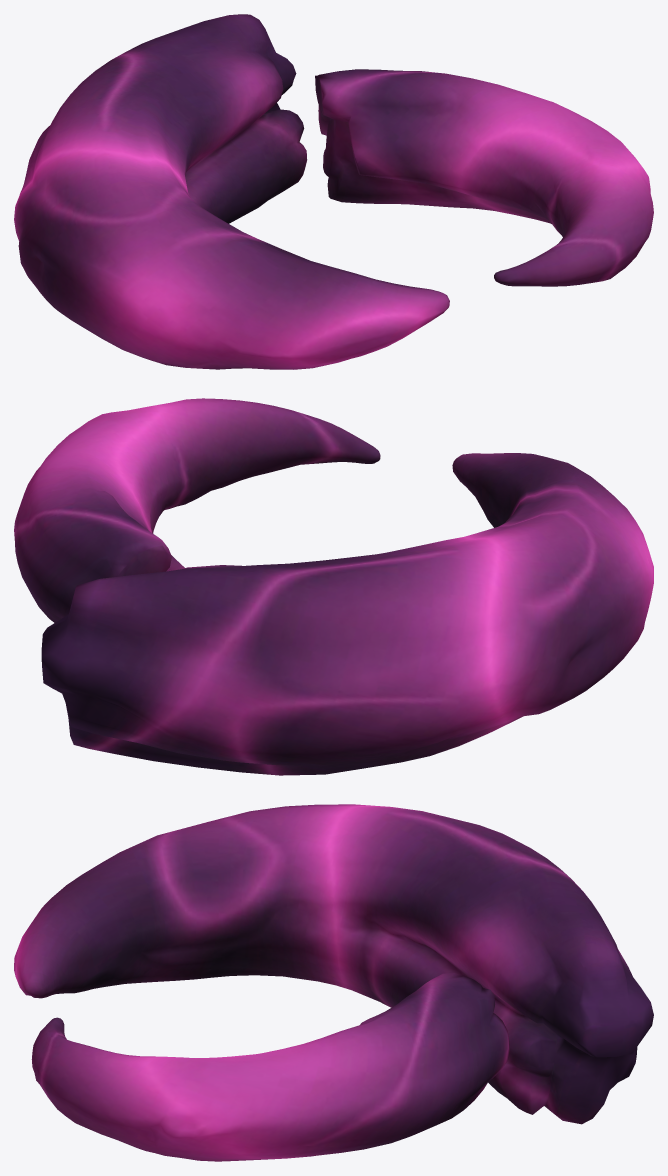
File: caos_drs_clawplantdebris_01a_chaos_v36.glb
3 renders of one model, top to bottom at view 1: azimuth 30°, elevation 25°; view 2: azimuth 150°, elevation 25°; view 3: azimuth 270°, elevation 25°, orthographic. The views are drawn at different scales.
Parts seen in each view (by area): view 1: caos_drs_clawplantdebris_01a; view 2: caos_drs_clawplantdebris_01a; view 3: caos_drs_clawplantdebris_01a.
Part boxes in pixels (<box>): caos_drs_clawplantdebris_01a: <box>14,14,653,369</box>; caos_drs_clawplantdebris_01a: <box>14,398,653,775</box>; caos_drs_clawplantdebris_01a: <box>14,804,653,1161</box>.
Bounding box in the file's own units: 1.06 × 0.3513 × 1.05.
1 material, 1 textured.
